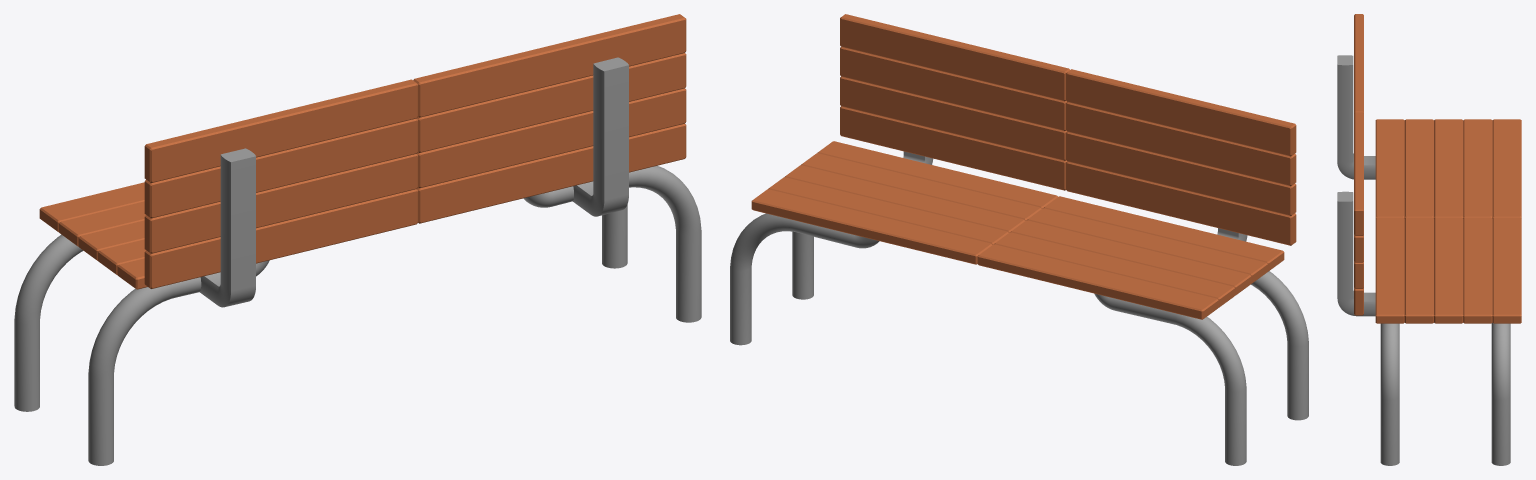
The model's file is Bench (1).fbx.
The picture shows the model from 3 angles, left to right: view 1: azimuth 30°, elevation 25°; view 2: azimuth 150°, elevation 25°; view 3: azimuth 270°, elevation 25°; orthographic projection. The views are drawn at different scales.
Parts seen in each view (by area): view 1: Bench; view 2: Bench; view 3: Bench.
Part boxes in pixels (left/top/right/bottom): Bench: left=14, top=14, right=701, bottom=465; Bench: left=730, top=14, right=1308, bottom=465; Bench: left=1337, top=14, right=1521, bottom=465.
Bounding box in the file's own units: 455 × 230 × 159.
